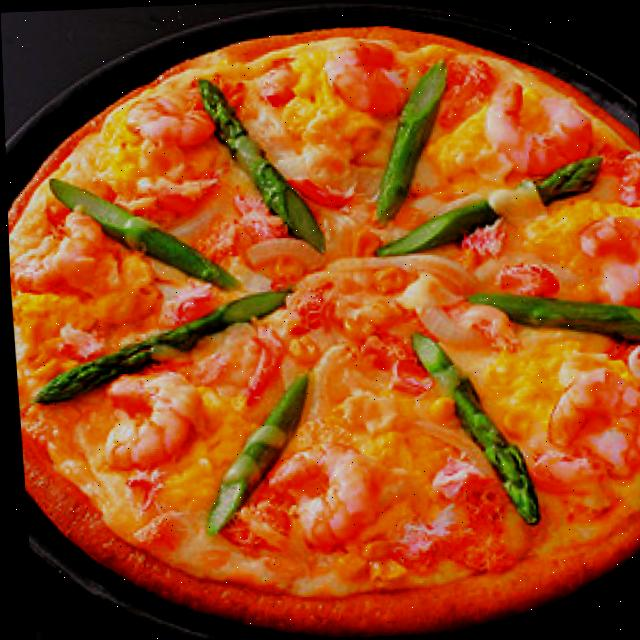汉堡快餐: (0, 10, 640, 640)
